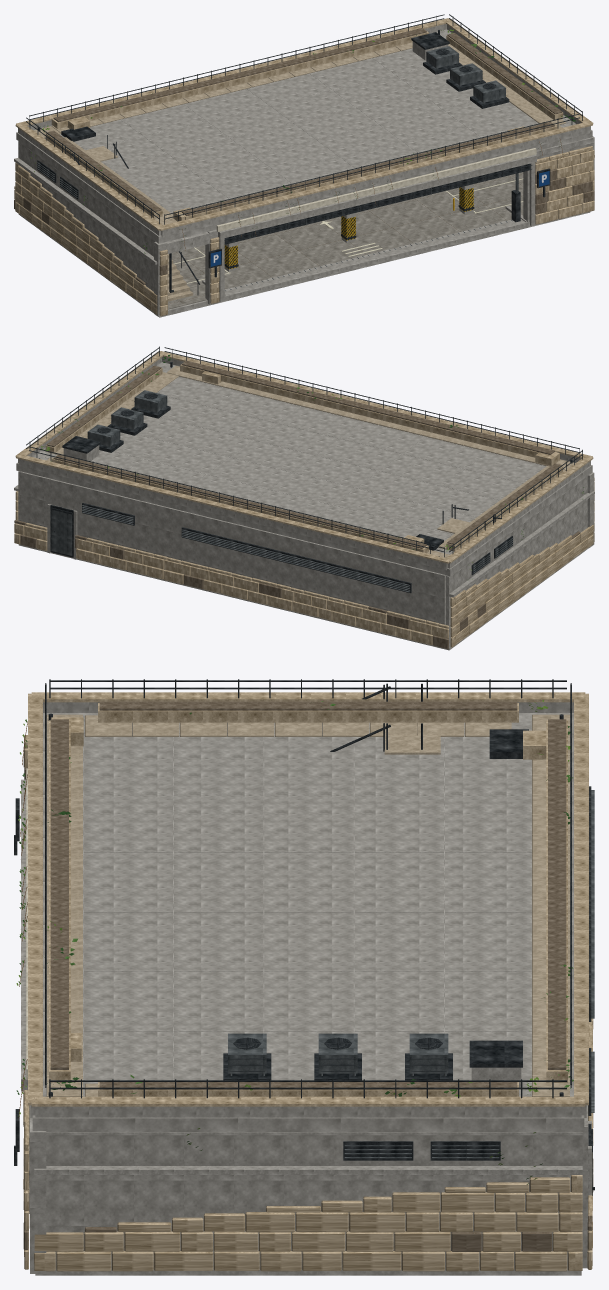
The model's file is HIL09_lod2.glb.
3 renders of one model, top to bottom at view 1: azimuth 30°, elevation 25°; view 2: azimuth 150°, elevation 25°; view 3: azimuth 270°, elevation 25°, orthographic. The views are drawn at different scales.
Visible parts, largest first — view 1: Roof_concrete, Interior_floor, Roof_stone, Facade_stone, Structure_concrete, Facade_concrete, Roof_stone_dark, Roof_metal_dark, Roof_tile, Facade_plaster, Facade_metal_dark, Roof_metal (+7 smaller); view 2: Roof_concrete, Structure_concrete, Facade_stone, Roof_stone, Roof_stone_dark, Roof_metal_dark, Roof_tile, Details_metal, Facade_metal_dark, Facade_concrete, Facade_stone_dark, Roof_metal; view 3: Roof_concrete, Facade_stone, Roof_stone, Structure_concrete, Roof_stone_dark, Roof_tile, Roof_metal_dark, Facade_concrete, Roof_metal, Facade_metal_dark, Details_metal, Facade_stone_dark (+2 smaller).
Part boxes in pixels (x1,y1,x2,y2): Roof_concrete: (16, 24, 592, 243); Interior_floor: (167, 172, 523, 309); Roof_stone: (15, 18, 593, 230); Facade_stone: (14, 146, 594, 316); Structure_concrete: (18, 141, 590, 317); Facade_concrete: (14, 136, 594, 316); Roof_stone_dark: (47, 28, 562, 215); Roof_metal_dark: (26, 14, 582, 224); Roof_tile: (33, 42, 566, 224); Facade_plaster: (216, 148, 536, 231); Facade_metal_dark: (37, 160, 530, 244); Roof_metal: (426, 46, 505, 103); Roof_concrete: (16, 356, 592, 576); Structure_concrete: (18, 471, 589, 650); Facade_stone: (14, 478, 594, 647); Roof_stone: (15, 351, 593, 563); Roof_stone_dark: (46, 361, 561, 548); Roof_metal_dark: (26, 346, 582, 557); Roof_tile: (46, 365, 575, 557); Details_metal: (51, 505, 513, 592); Facade_metal_dark: (82, 503, 512, 593); Facade_concrete: (14, 472, 594, 597); Facade_stone_dark: (14, 494, 594, 648); Roof_metal: (87, 390, 167, 447); Roof_concrete: (30, 702, 586, 1131); Facade_stone: (23, 735, 593, 1271); Roof_stone: (28, 692, 588, 1106); Structure_concrete: (35, 1105, 587, 1275); Roof_stone_dark: (50, 701, 566, 1089); Roof_tile: (46, 714, 569, 1096); Roof_metal_dark: (45, 679, 571, 1098); Facade_concrete: (21, 779, 591, 1273); Roof_metal: (228, 1033, 448, 1076); Facade_metal_dark: (343, 786, 591, 1160); Details_metal: (344, 790, 594, 1195); Facade_stone_dark: (23, 768, 593, 1251).
Bounding box in the file's own units: 28.17 × 6.08 × 16.64.
Materials: 18 (18 with a texture image).
